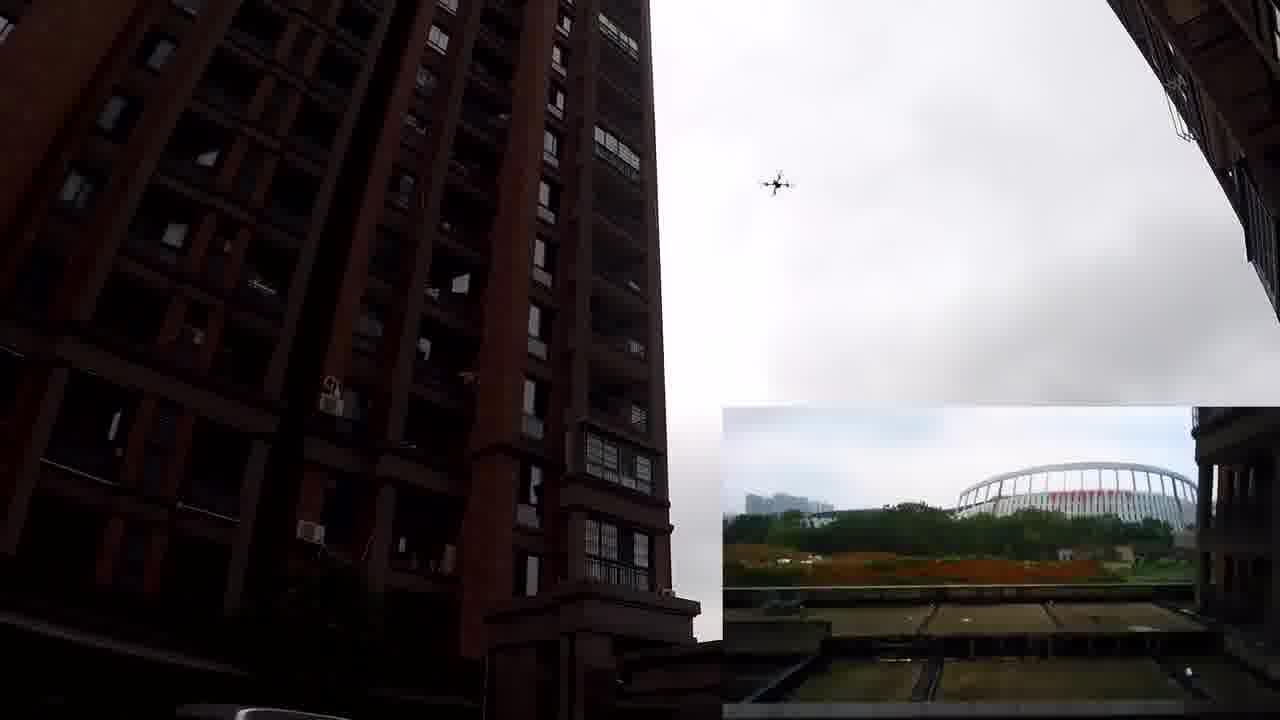drone: (758, 163, 794, 197)
